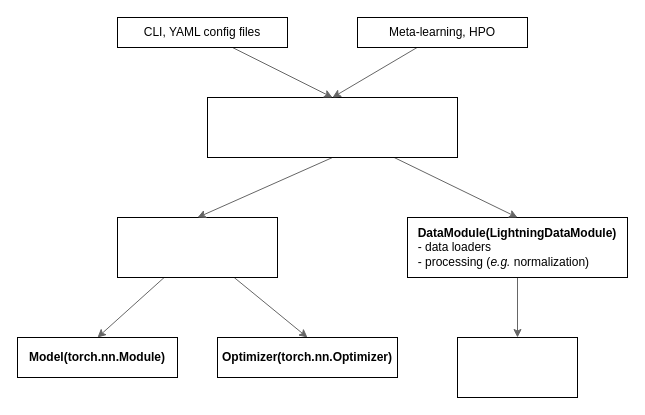
Some shapes in this 645 by 415 pixel diagram are drawn without their labels. Each missing label, with the centre of its shape:
Dataset() data/raw/ data/processed/: (x=517, y=367)
Module(LightningModule) - forward() - steps (training, testing...): (x=197, y=247)
Trainer() - callbacks - logging (MLFlow, TensorBoard...): (x=332, y=127)
